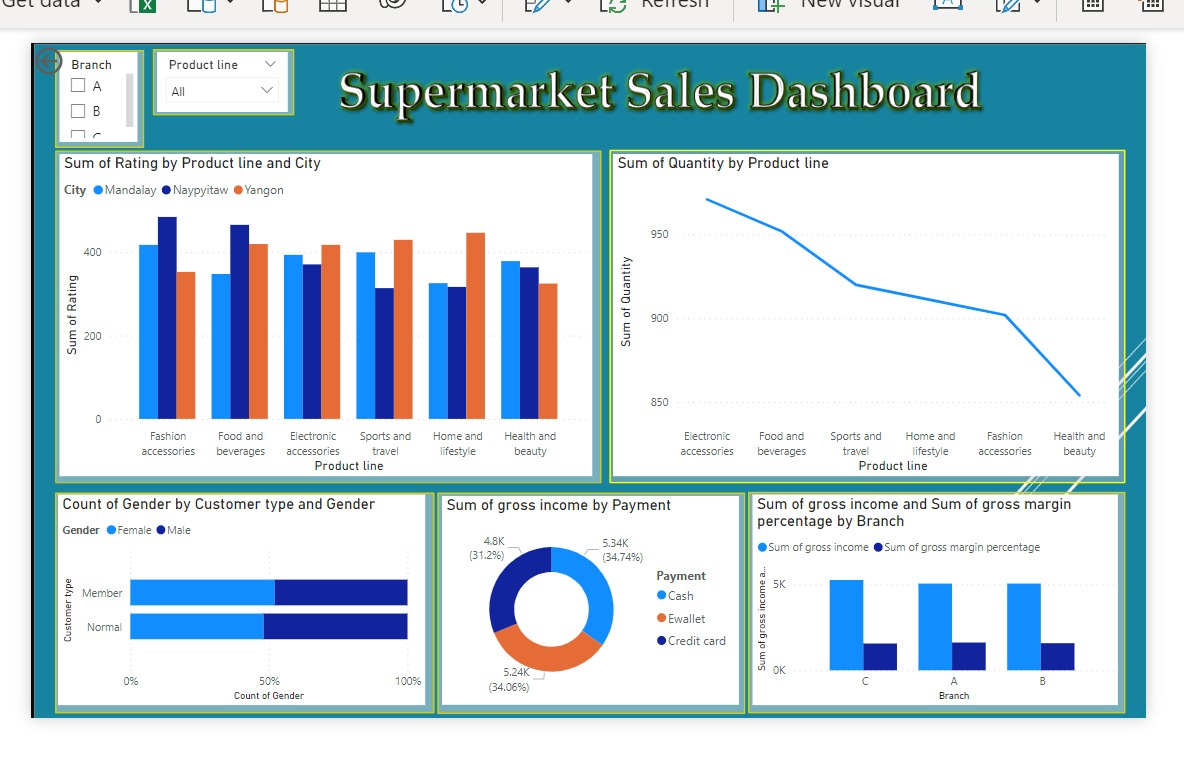

The page's visual inventory and layout, read from the dashboard file:
{"tool":"powerbi","page":{"name":"Page 1","canvas":[1239,750],"ordinal":0},"visuals":[{"type":"lineClusteredColumnComboChart","fields":{"Category":["supermarket_sales - Sheet1.Product line"],"Y":["Sum(supermarket_sales - Sheet1.Rating)"],"Series":["supermarket_sales - Sheet1.City"]},"box":[32,124,592,358],"z":0},{"type":"lineChart","fields":{"Category":["supermarket_sales - Sheet1.Product line"],"Y":["Sum(supermarket_sales - Sheet1.Quantity)"]},"box":[646,124,562,358],"z":1000},{"type":"slicer","fields":{"Values":["supermarket_sales - Sheet1.Branch"]},"box":[31.7,10,86.7,100],"z":2000},{"type":"slicer","fields":{"Values":["supermarket_sales - Sheet1.Product line"]},"box":[140,10,145,66.7],"z":3000},{"type":"hundredPercentStackedBarChart","fields":{"Category":["supermarket_sales - Sheet1.Customer type"],"Series":["supermarket_sales - Sheet1.Gender"],"Y":["CountNonNull(supermarket_sales - Sheet1.Gender)"]},"box":[30,502,408,234],"z":4000},{"type":"donutChart","fields":{"Category":["supermarket_sales - Sheet1.Payment"],"Y":["Sum(supermarket_sales - Sheet1.gross income)"]},"box":[456,504,330,232],"z":5000},{"type":"clusteredColumnChart","fields":{"Category":["supermarket_sales - Sheet1.Branch"],"Y":["Sum(supermarket_sales - Sheet1.gross income)","Sum(supermarket_sales - Sheet1.gross margin percentage)"]},"box":[802,502,406,234],"z":6000},{"type":"actionButton","box":[0,0,100,40],"z":7000}]}

Visuals, with their boxes on the page's 1239x750 design canvas (x1, y1, x2, y2). These are canvas units, not pixel positions in the 1184x773 screenshot, which may show the page scaled, cropped or inside an application window:
lineClusteredColumnComboChart - supermarket_sales - Sheet1.Product line x Sum(supermarket_sales - Sheet1.Rating): {"left": 32, "top": 124, "right": 624, "bottom": 482}
lineChart - supermarket_sales - Sheet1.Product line x Sum(supermarket_sales - Sheet1.Quantity): {"left": 646, "top": 124, "right": 1208, "bottom": 482}
slicer - supermarket_sales - Sheet1.Branch: {"left": 32, "top": 10, "right": 118, "bottom": 110}
slicer - supermarket_sales - Sheet1.Product line: {"left": 140, "top": 10, "right": 285, "bottom": 77}
hundredPercentStackedBarChart - supermarket_sales - Sheet1.Customer type x supermarket_sales - Sheet1.Gender: {"left": 30, "top": 502, "right": 438, "bottom": 736}
donutChart - supermarket_sales - Sheet1.Payment x Sum(supermarket_sales - Sheet1.gross income): {"left": 456, "top": 504, "right": 786, "bottom": 736}
clusteredColumnChart - supermarket_sales - Sheet1.Branch x Sum(supermarket_sales - Sheet1.gross income): {"left": 802, "top": 502, "right": 1208, "bottom": 736}
actionButton: {"left": 0, "top": 0, "right": 100, "bottom": 40}
